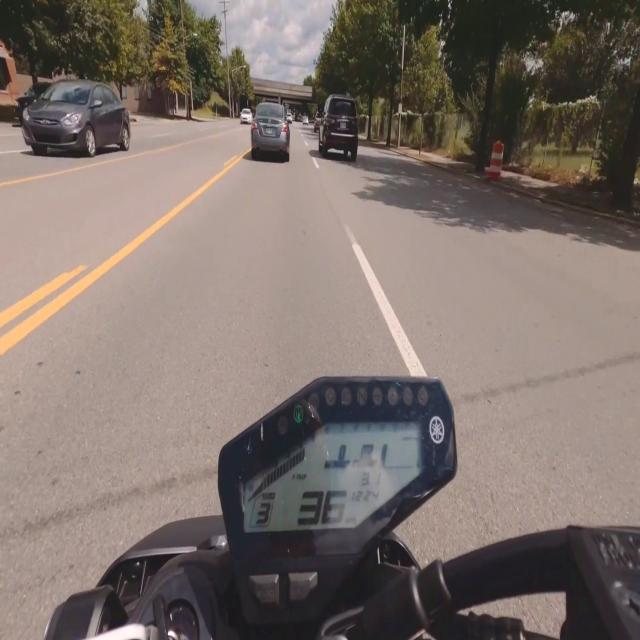car: (22, 80, 130, 157), (319, 95, 358, 161), (251, 102, 290, 161), (16, 81, 52, 125), (240, 109, 252, 124), (314, 112, 321, 132), (286, 111, 292, 123), (302, 115, 308, 125)
motorcycle: (45, 378, 639, 639)
